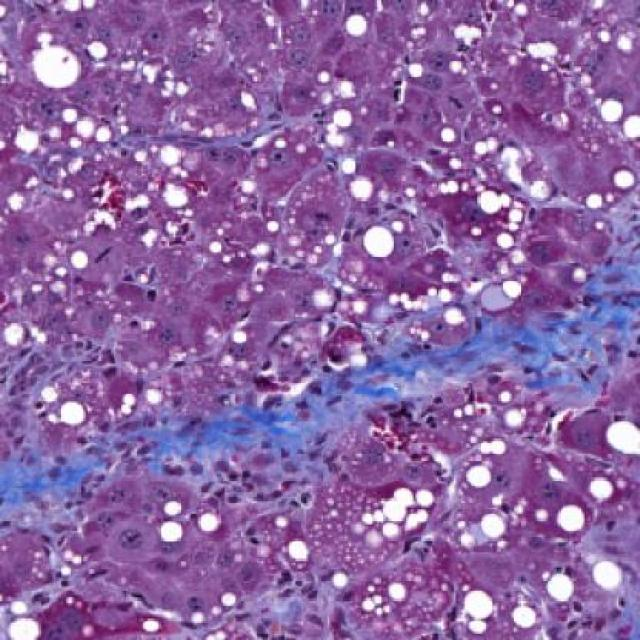fibrosis: (22, 389, 320, 527), (369, 298, 639, 418)
